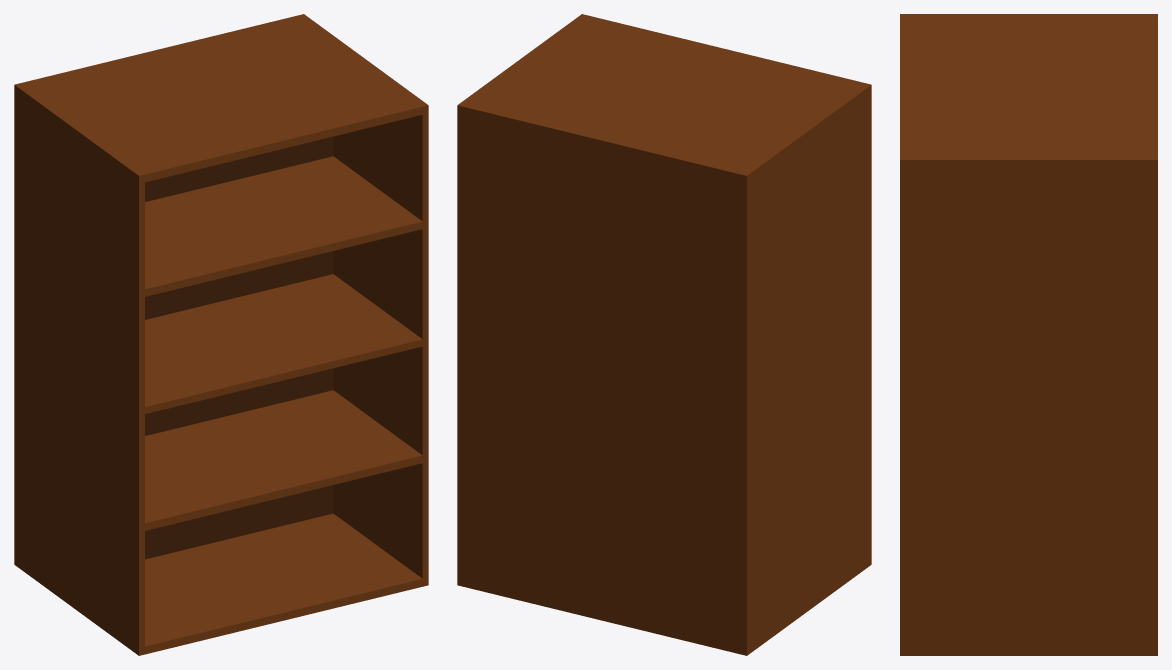
File: Estanteria.fbx
3 renders of one model, left to right at view 1: azimuth 30°, elevation 25°; view 2: azimuth 150°, elevation 25°; view 3: azimuth 270°, elevation 25°, orthographic. The views are drawn at different scales.
Parts seen in each view (by area): view 1: Estanteria; view 2: Estanteria; view 3: Estanteria.
Part boxes in pixels (x1,y1,x2,y2): Estanteria: (14, 14, 428, 655); Estanteria: (457, 14, 871, 655); Estanteria: (900, 14, 1157, 655).
Size of the model in its own units: 3.33 by 5.28 by 2.49.
